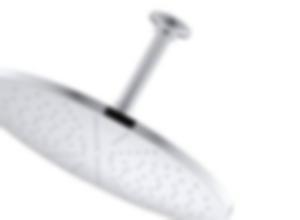Ducha: (0, 0, 226, 219)
